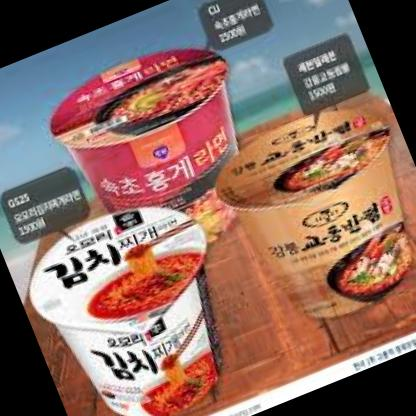Ramen: (38, 21, 290, 286), (12, 178, 267, 416), (214, 92, 416, 337)
